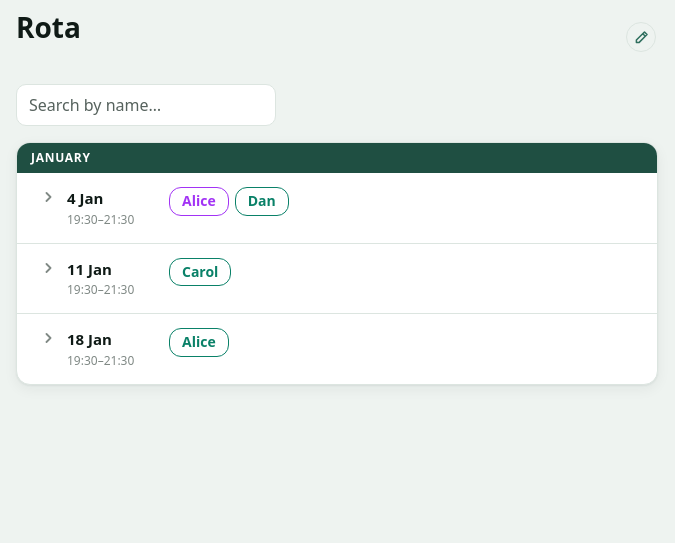
Test: RotaViewer placement › changing a role is not offered when the organisation has no other role
Click the button named "Edit rota": click(641, 37) [626,22,656,52]
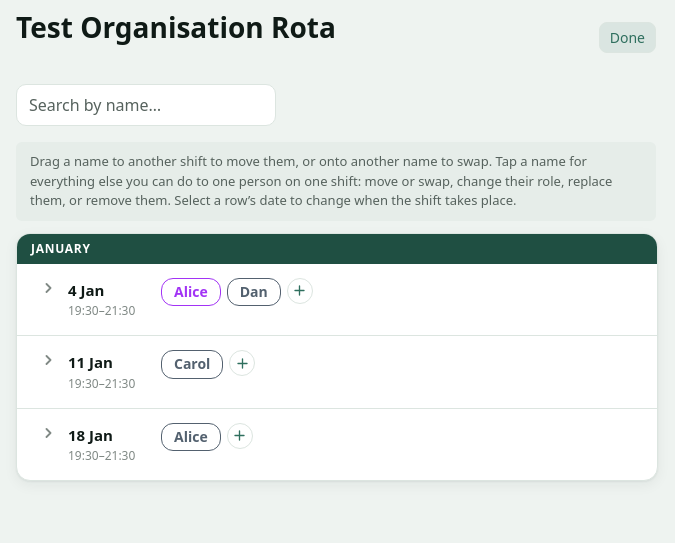
Click the button with aria-label "Alice, change this shift": click(191, 292) [161,278,221,306]
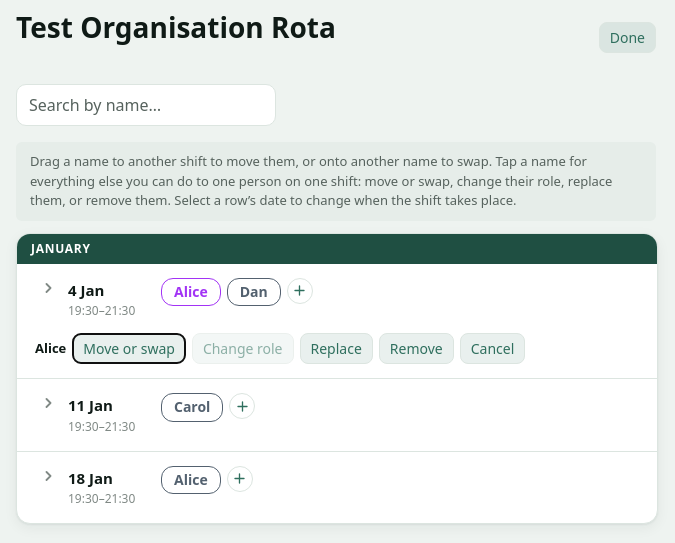
Expected: the button "Change role" is disabled, [192,333,294,364]
